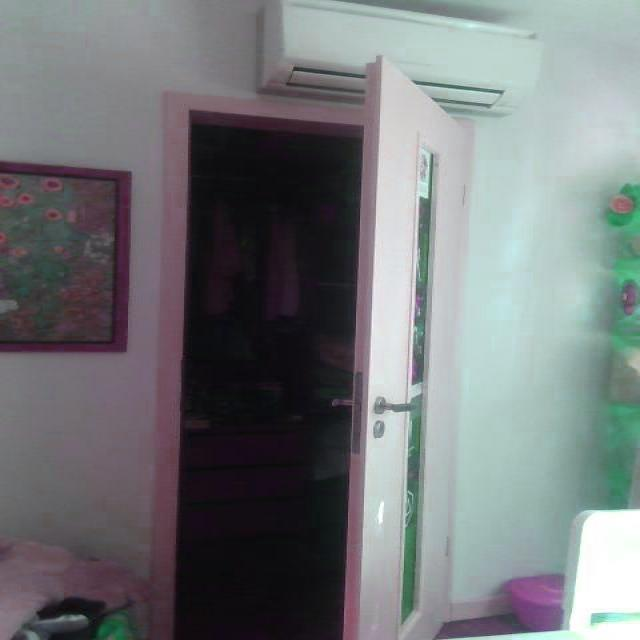door: (344, 53, 471, 638)
